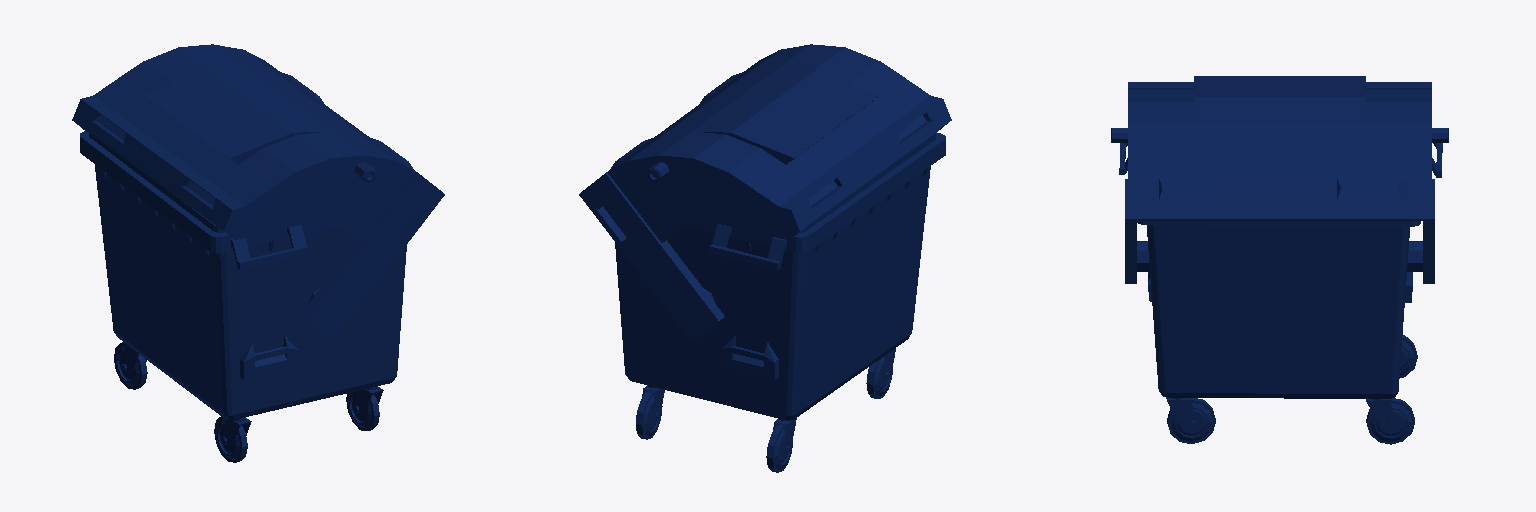
File: GarbageFinal.obj
3 views of the same model, side by side, from view 1: azimuth 30°, elevation 25°; view 2: azimuth 150°, elevation 25°; view 3: azimuth 270°, elevation 25° (orthographic).
Parts seen in each view (by area): view 1: Cube.008; view 2: Cube.008; view 3: Cube.008.
Part boxes in pixels (bbox=[...]): Cube.008: bbox=[72, 44, 444, 462]; Cube.008: bbox=[579, 44, 951, 472]; Cube.008: bbox=[1111, 76, 1448, 444].
Size of the model in its own units: 2.59 by 3.46 by 3.39.